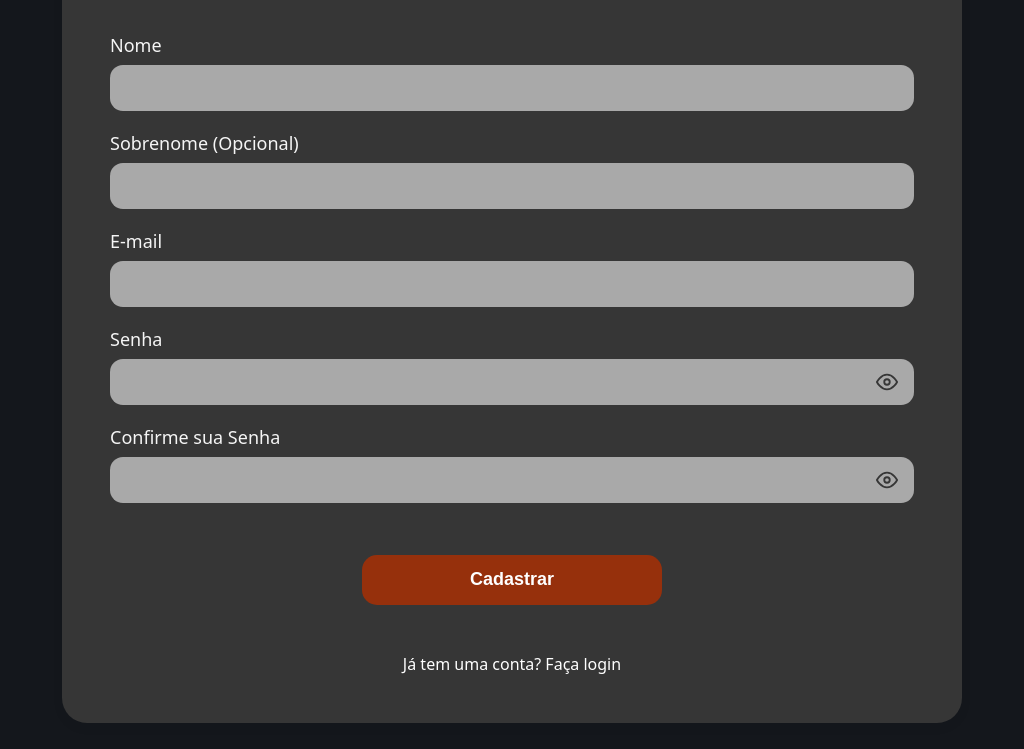
RegisterPage › deve validar tamanho mínimo da senha
(page scrolled)
In the password field labelled "Senha": (512, 382) [110, 359, 914, 405], type "1234567"
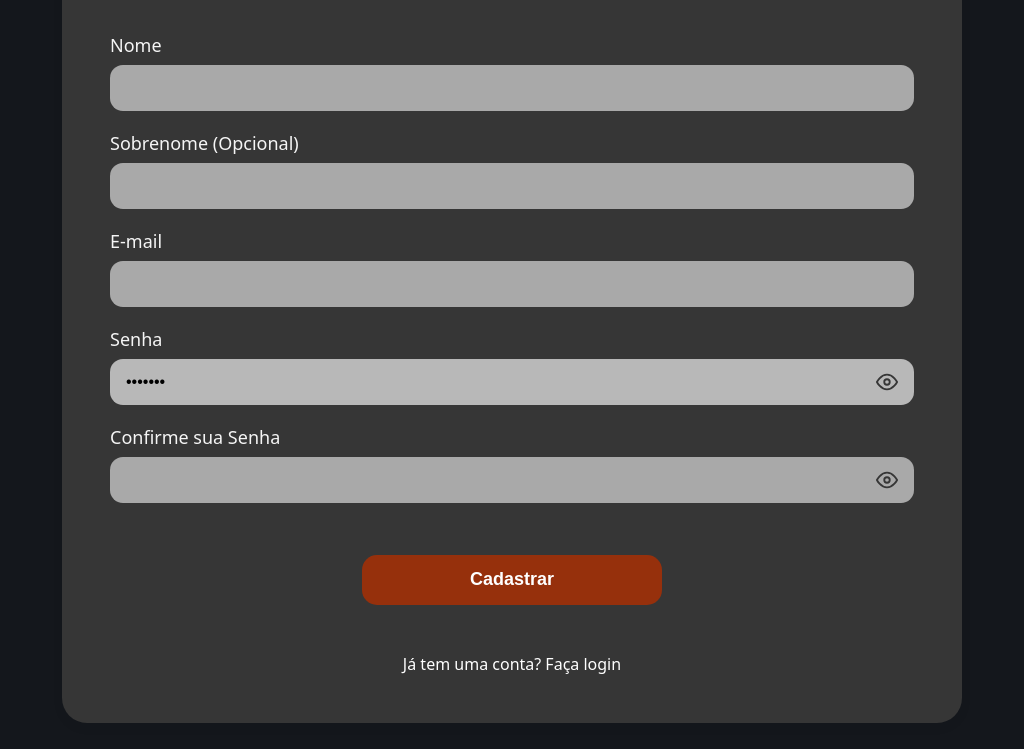
Click the button "Cadastrar": (512, 580) [362, 555, 662, 605]
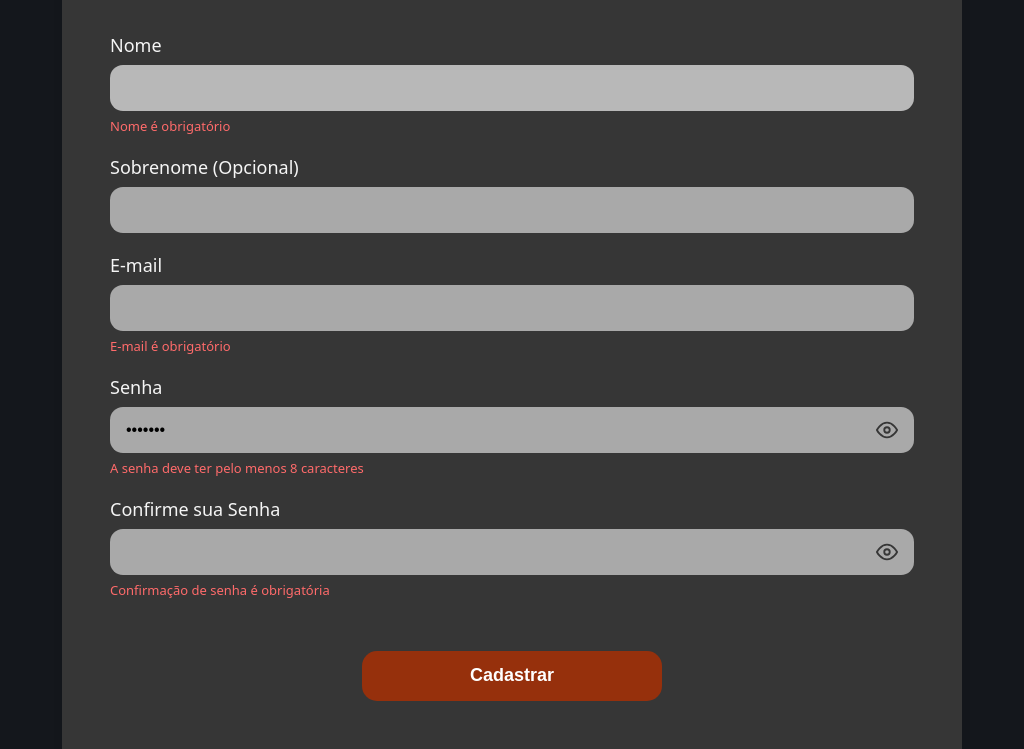
Now the text "A senha deve ter pelo menos 8 caracteres" is shown, box [110, 459, 364, 477]
